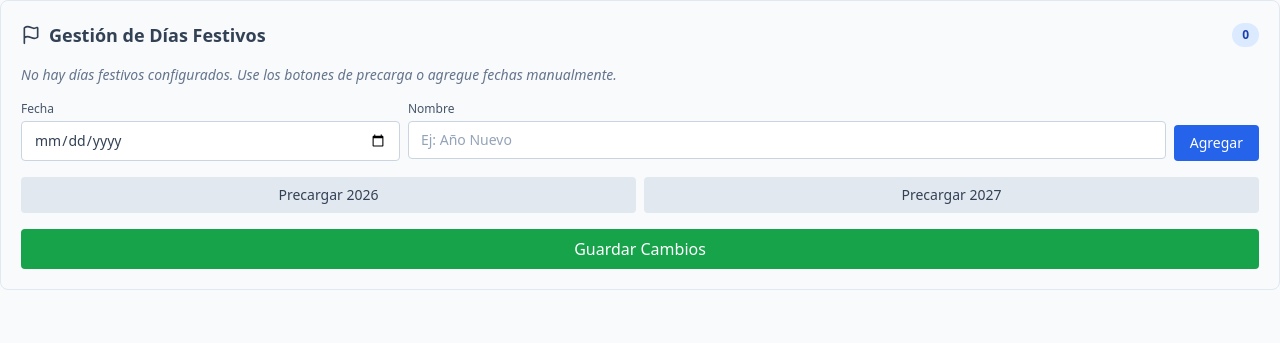
Test: HolidayManager › adds a holiday manually and validates required fields
Expected: the text "No hay días festivos configurados" is shown, [21,65,617,84]
Click the button "Agregar": (1216, 143) [1174,125,1259,161]
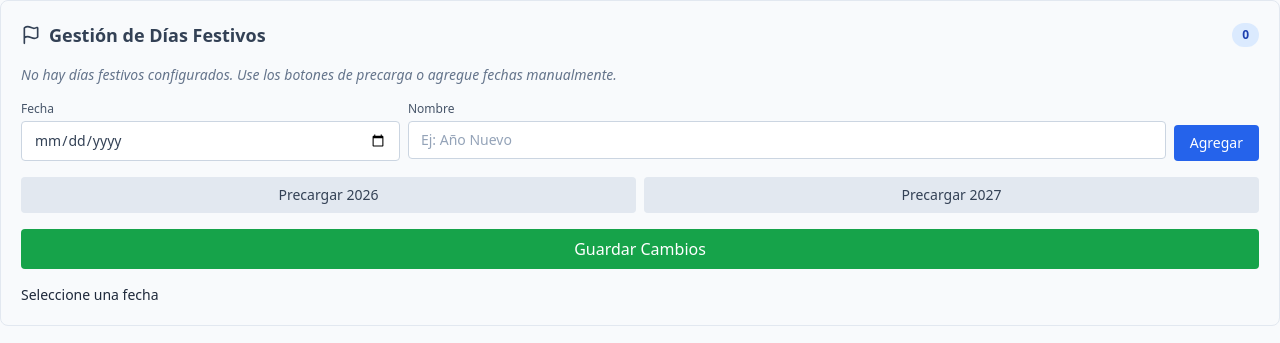
Expected: the text "Seleccione una fecha" is shown, [21,285,158,304]
In the date field labelled "Fecha": (210, 141) [21,121,400,161], type "2026-12-08"
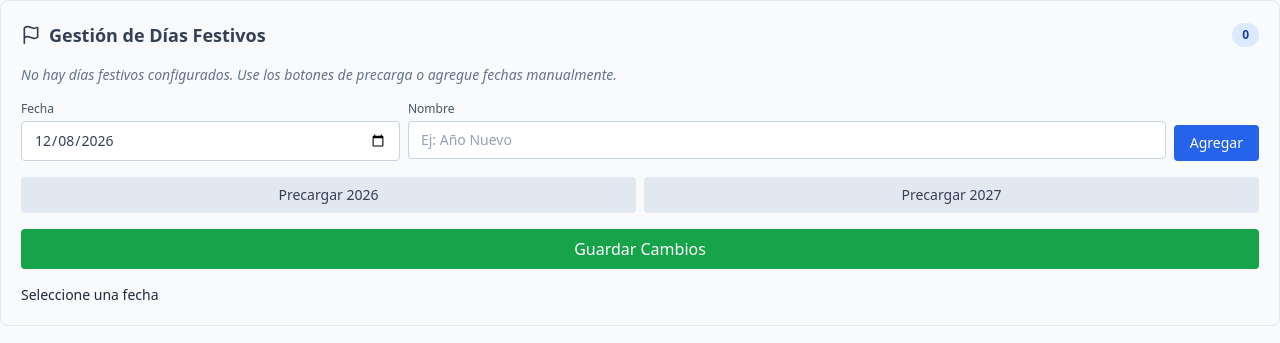
Click the button "Agregar": (1216, 143) [1174,125,1259,161]
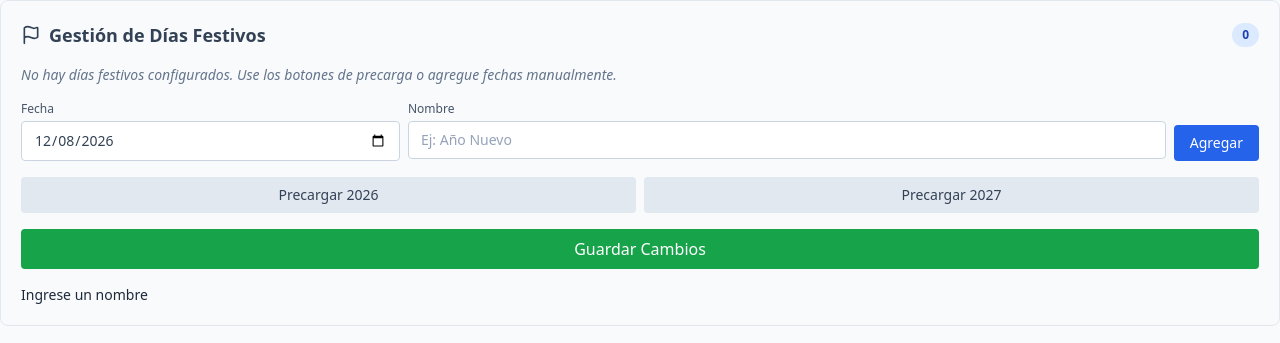
Expected: the text "Ingrese un nombre" is shown, [21,285,148,304]
In the field labelled "Nombre": (787, 140) [408,121,1166,159], type "Inmaculada Concepción"
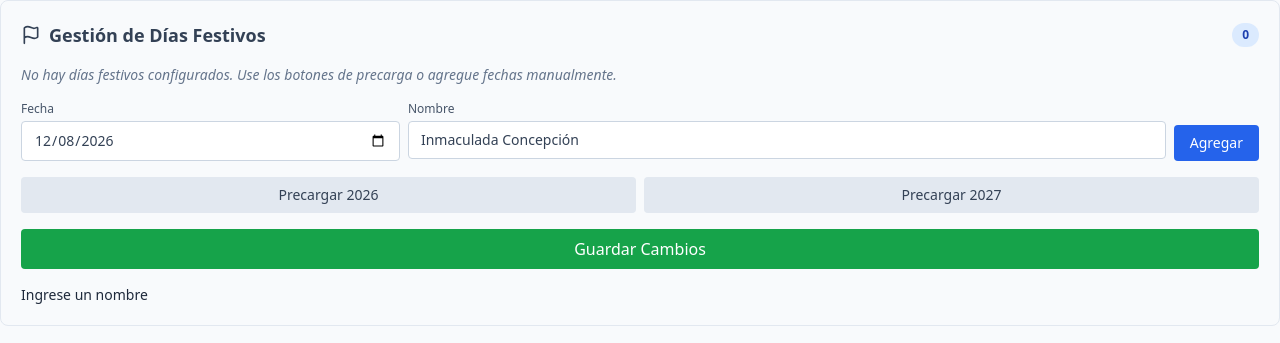
Click the button "Agregar": (1216, 143) [1174,125,1259,161]
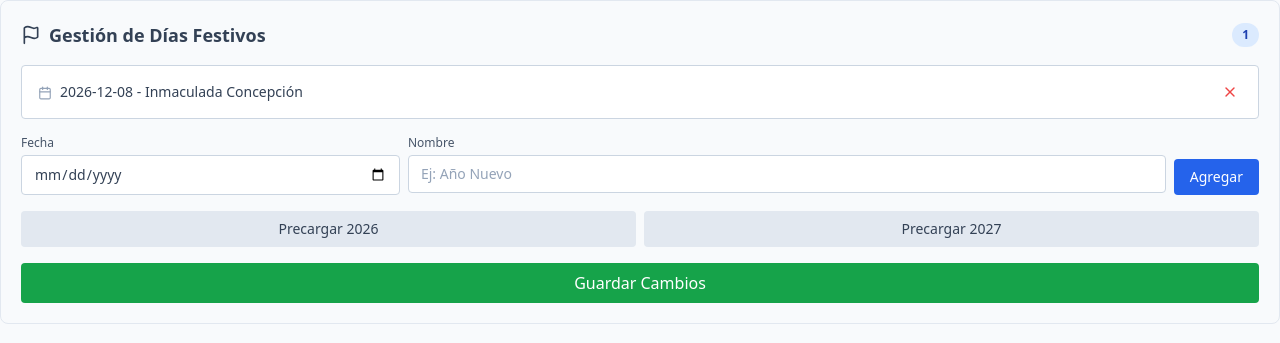
Expected: the text "2026-12-08 - Inmaculada Concepción" is shown, [38,82,303,102]
